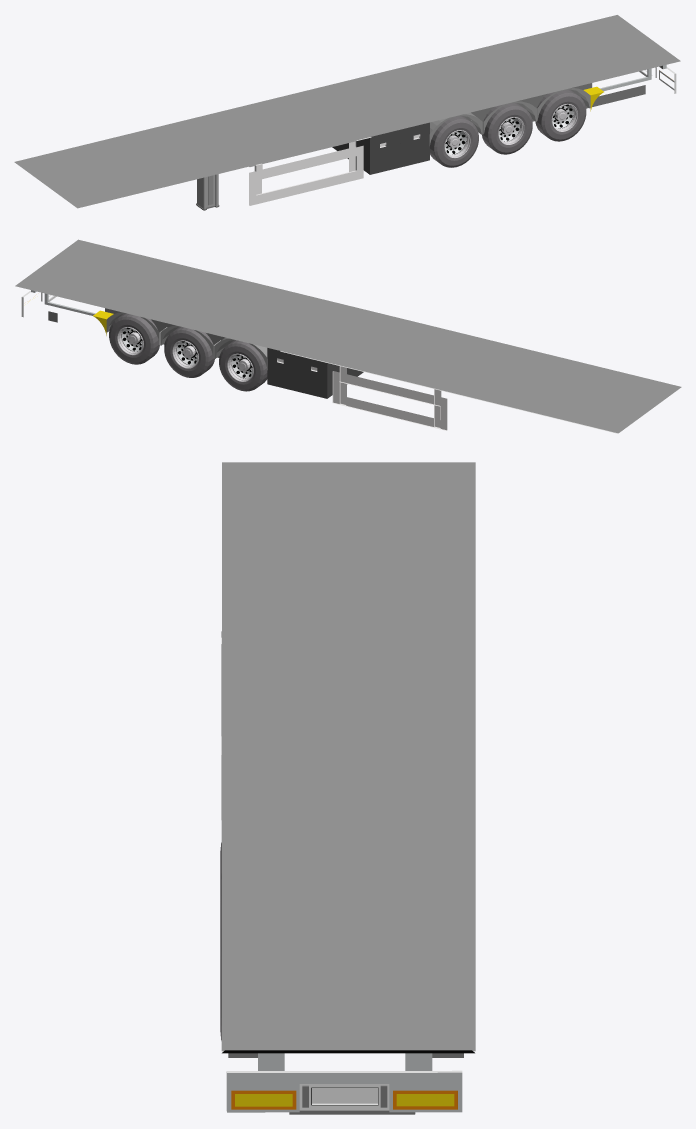
The model's file is trailer_default.glb.
3 renders of one model, top to bottom at view 1: azimuth 30°, elevation 25°; view 2: azimuth 150°, elevation 25°; view 3: azimuth 270°, elevation 25°, orthographic. The views are drawn at different scales.
Visible parts, largest first — view 1: bodycar; view 2: bodycar; view 3: bodycar.
Boxes of the visible parts, bbox=[...] form: bodycar: bbox=[14, 15, 680, 210]; bodycar: bbox=[15, 239, 681, 433]; bodycar: bbox=[220, 462, 475, 1114].
Bounding box in the file's own units: 9.22 × 0.7693 × 1.69.
2 materials, 2 textured.
